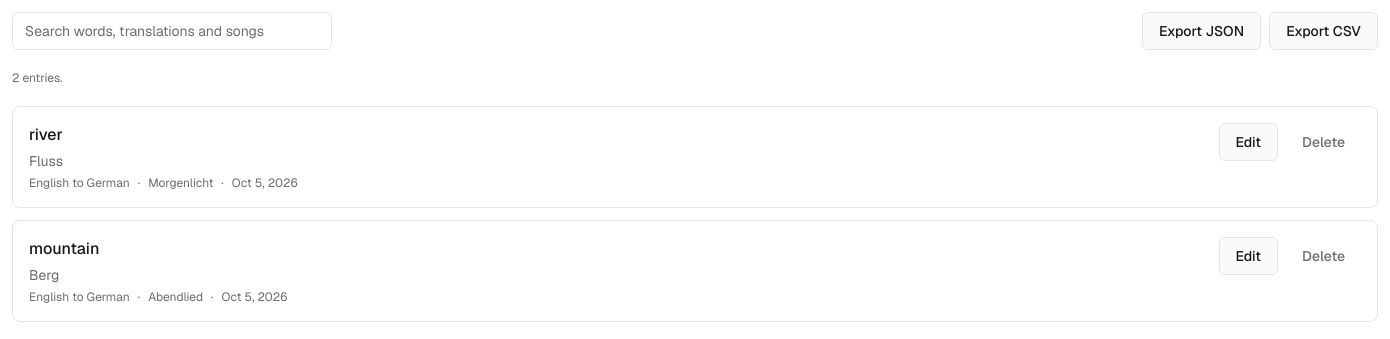
VocabularyList › search › says how many of the total are shown
Expected: the number of list items is 2, [12, 106, 1378, 208]; [12, 220, 1378, 322]
Type "river" into the search field named "Search vocabulary".
click(172, 31); type("river")  # box [12, 12, 332, 50]
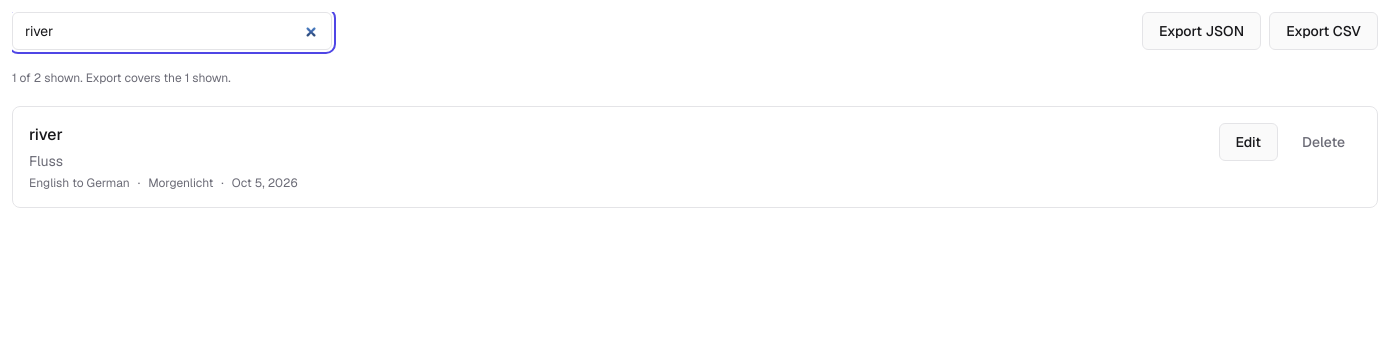
Expected: the text "1 of 2 shown. Export covers the 1 shown." is shown, [12, 70, 231, 86]
